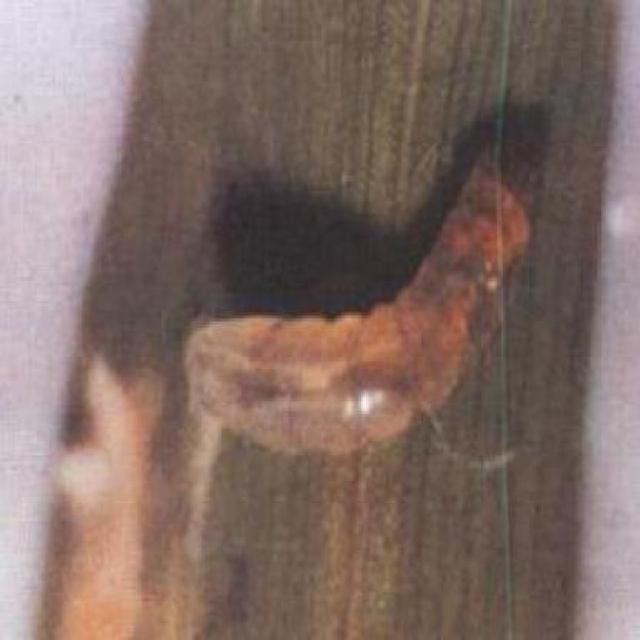whorl-maggot: (185, 161, 537, 457)
